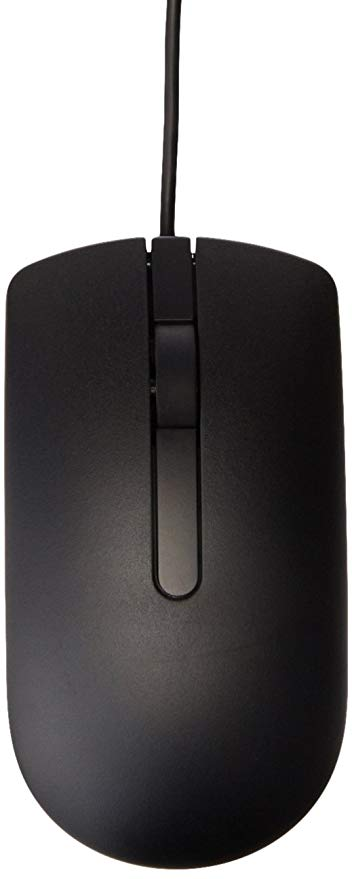dell-mouse-ms116: (1, 3, 349, 879)
